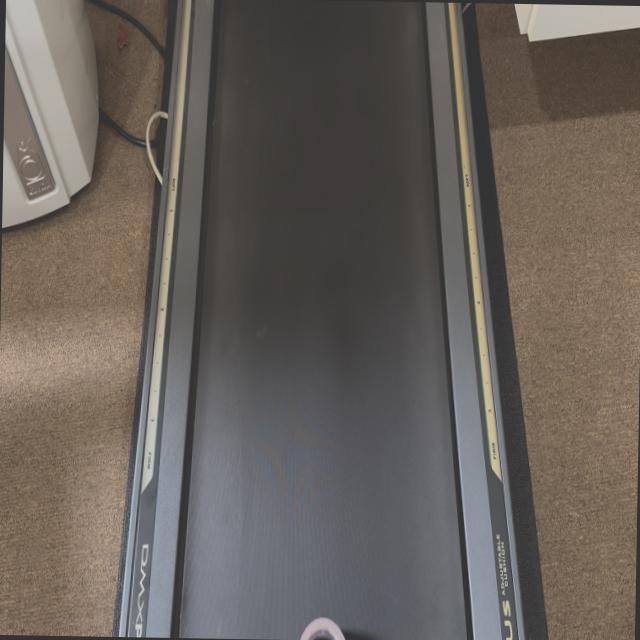Trash: (297, 616, 345, 640)
